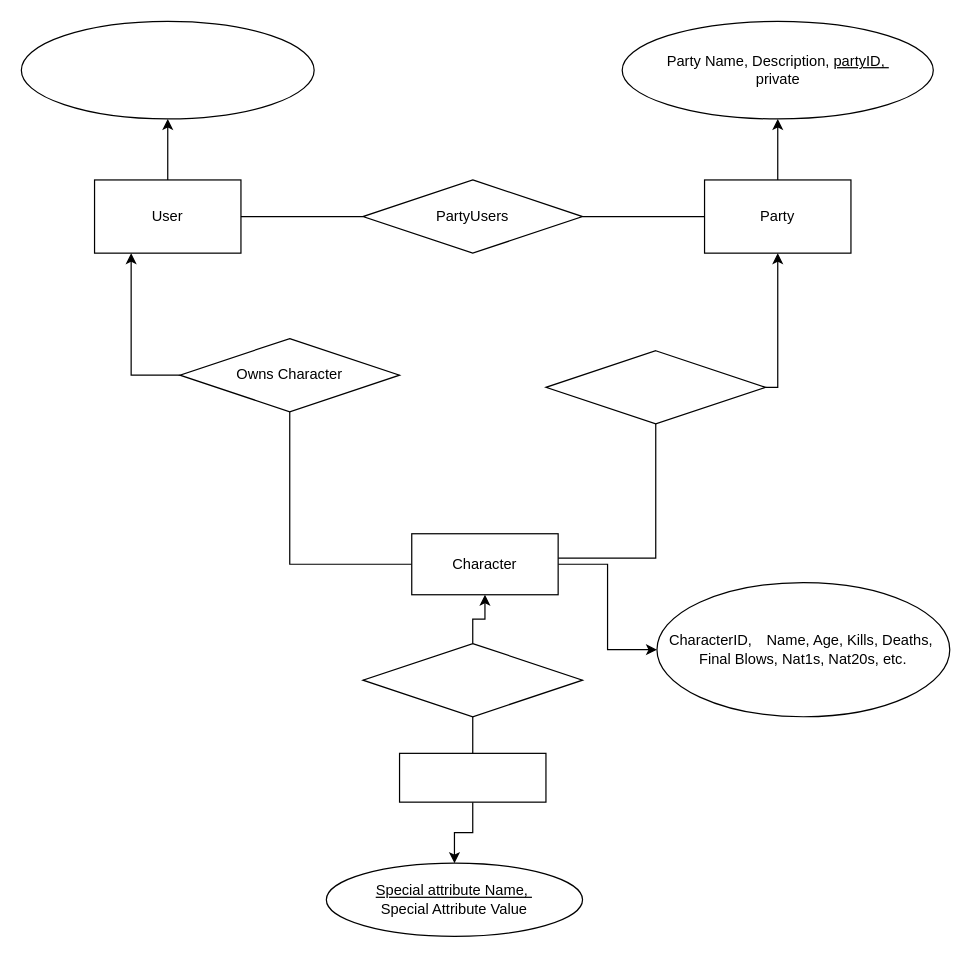
Image size: 971x958. Some labels were removed from this diagram. The shapes that lost their labels are listed below. From the top down, each one's centre as x and y in pixels, then its label:
At (167,69): "UsernameID , Password".
At (655,387): "Party Contains".
At (472,679): "Character Tracks".
At (472,777): "Special Stats".
